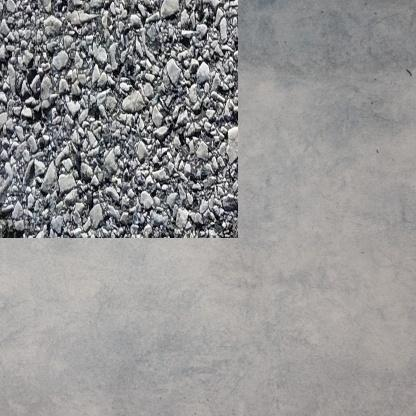Cracks: (182, 187, 220, 213), (0, 192, 29, 220)
